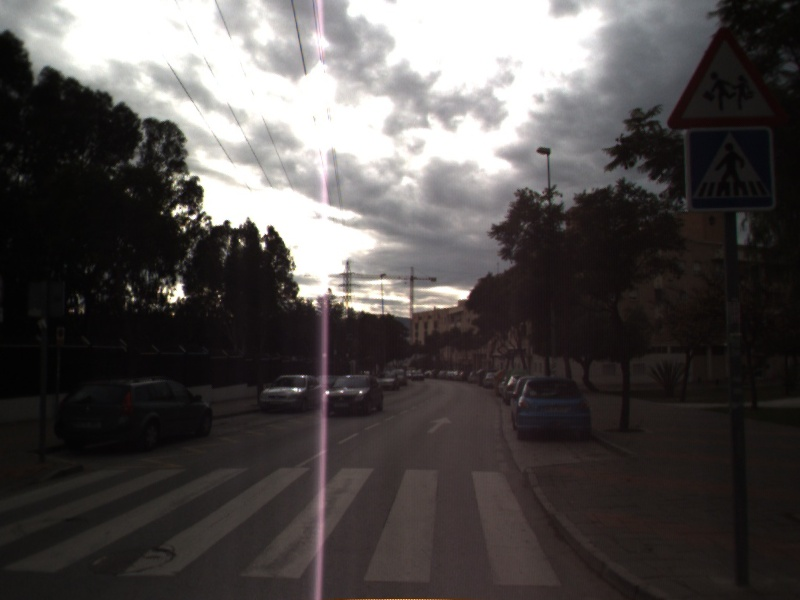STRAIGHT: (424, 415, 454, 436)
